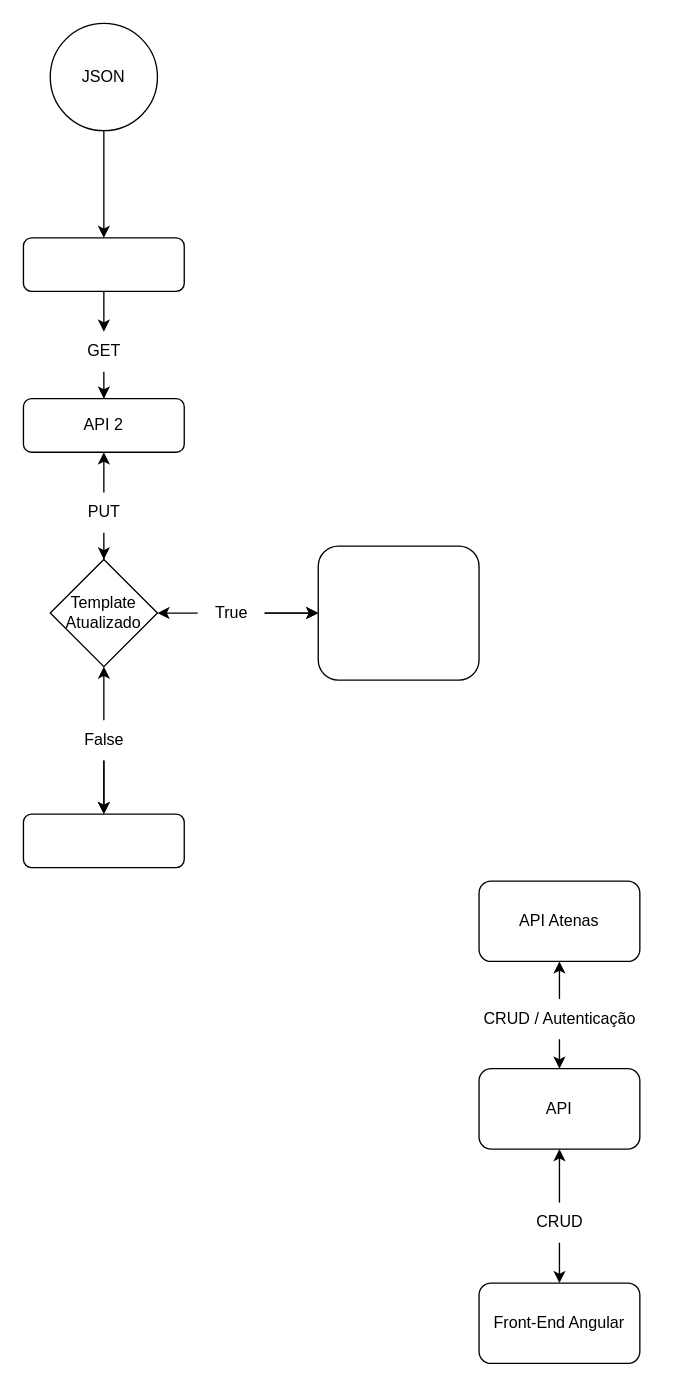
Image size: 677x1387. Some labels were removed from this diagram. The centre of each missing label's shape, as x and y in pixels:
API 1: (103,264)
Gera PDF do Template() Nome: Guid: (398,612)
MesclaTemplate(): (103,840)
